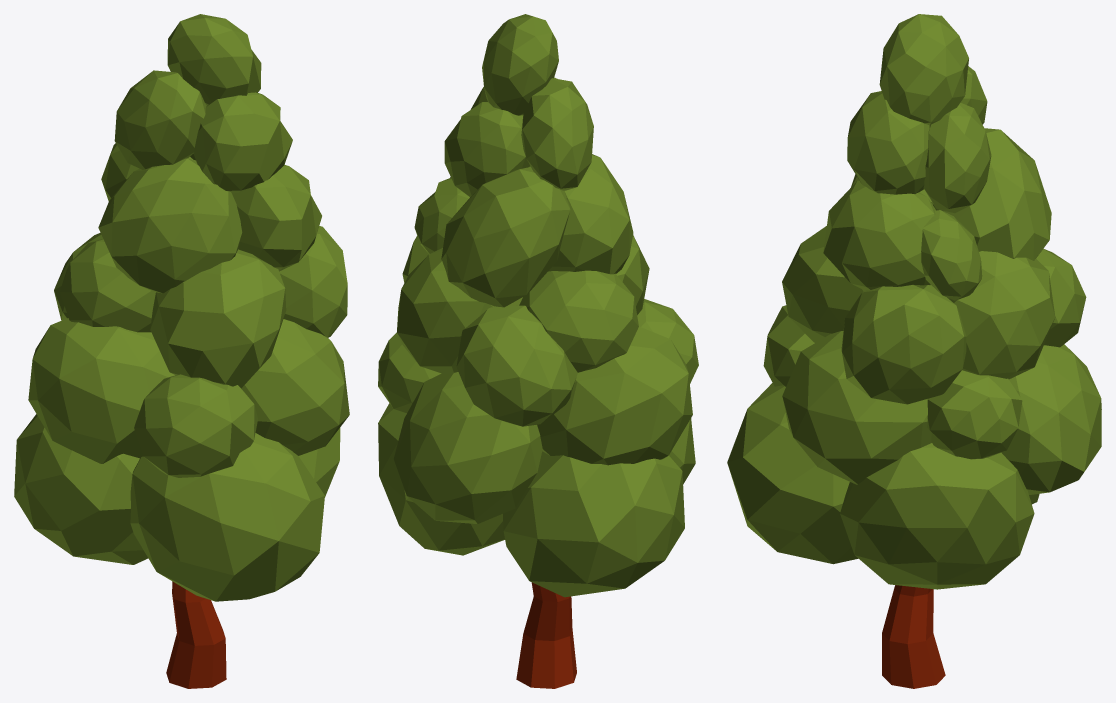
The model's file is Poplar_Folhas_Verde_Claro.fbx.
3 renders of one model, left to right at view 1: azimuth 30°, elevation 25°; view 2: azimuth 150°, elevation 25°; view 3: azimuth 270°, elevation 25°, orthographic. The views are drawn at different scales.
Visible parts, largest first — view 1: Poplar_Folhas_Verde_Claro; view 2: Poplar_Folhas_Verde_Claro; view 3: Poplar_Folhas_Verde_Claro.
Part boxes in pixels (<box>): Poplar_Folhas_Verde_Claro: <box>14,14,349,688</box>; Poplar_Folhas_Verde_Claro: <box>378,14,698,688</box>; Poplar_Folhas_Verde_Claro: <box>727,14,1101,688</box>.
Size of the model in its own units: 269 by 582 by 296.
